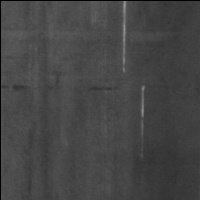scratches: (138, 83, 149, 160), (119, 1, 130, 75)
